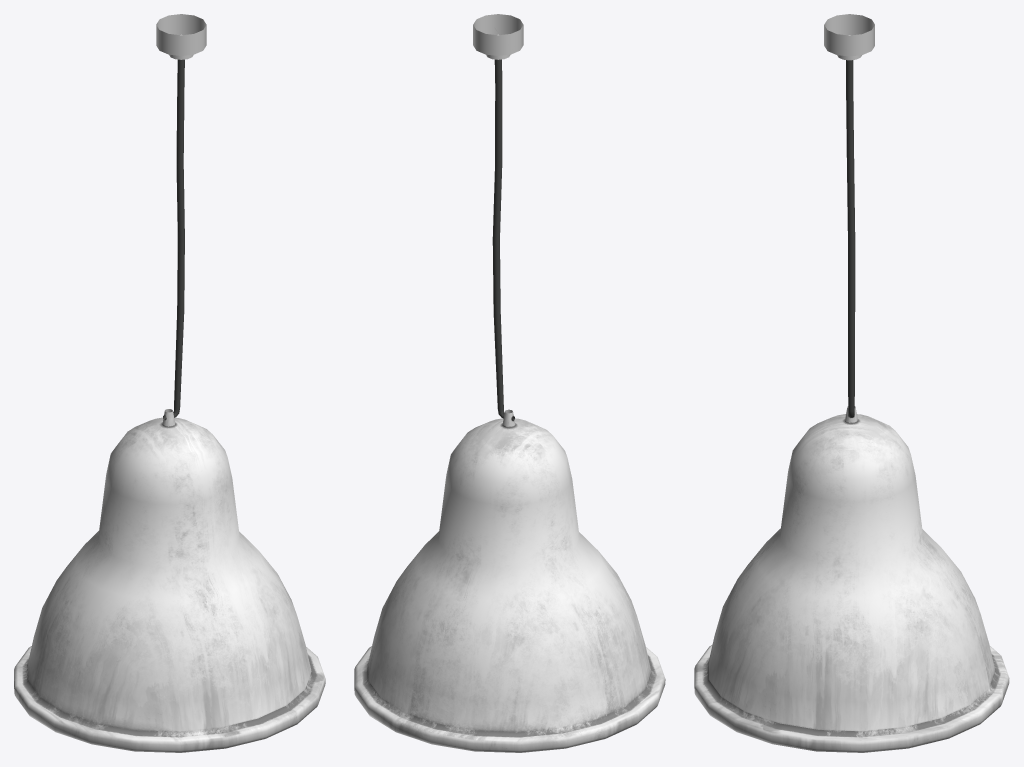
The model's file is garage-lamp.glb.
3 views of the same model, side by side, from view 1: azimuth 30°, elevation 25°; view 2: azimuth 150°, elevation 25°; view 3: azimuth 270°, elevation 25° (orthographic).
Visible parts, largest first — view 1: SM_Light_bulb, SM_Light; view 2: SM_Light_bulb, SM_Light; view 3: SM_Light_bulb, SM_Light.
Part boxes in pixels (x1,y1,x2,y2): SM_Light_bulb: (14, 409, 325, 752); SM_Light: (156, 14, 206, 420); SM_Light_bulb: (354, 409, 665, 752); SM_Light: (473, 14, 523, 420); SM_Light_bulb: (694, 406, 1009, 752); SM_Light: (824, 14, 874, 417).
Size of the model in its own units: 0.7603 by 1.78 by 0.7581.
1 material, 1 textured.
